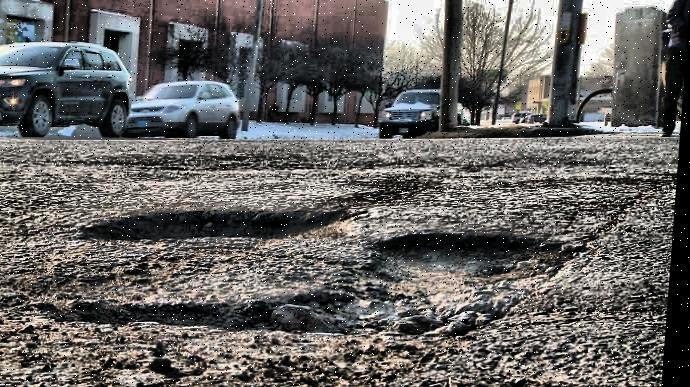pothole: (279, 228, 606, 350), (82, 204, 335, 244)
